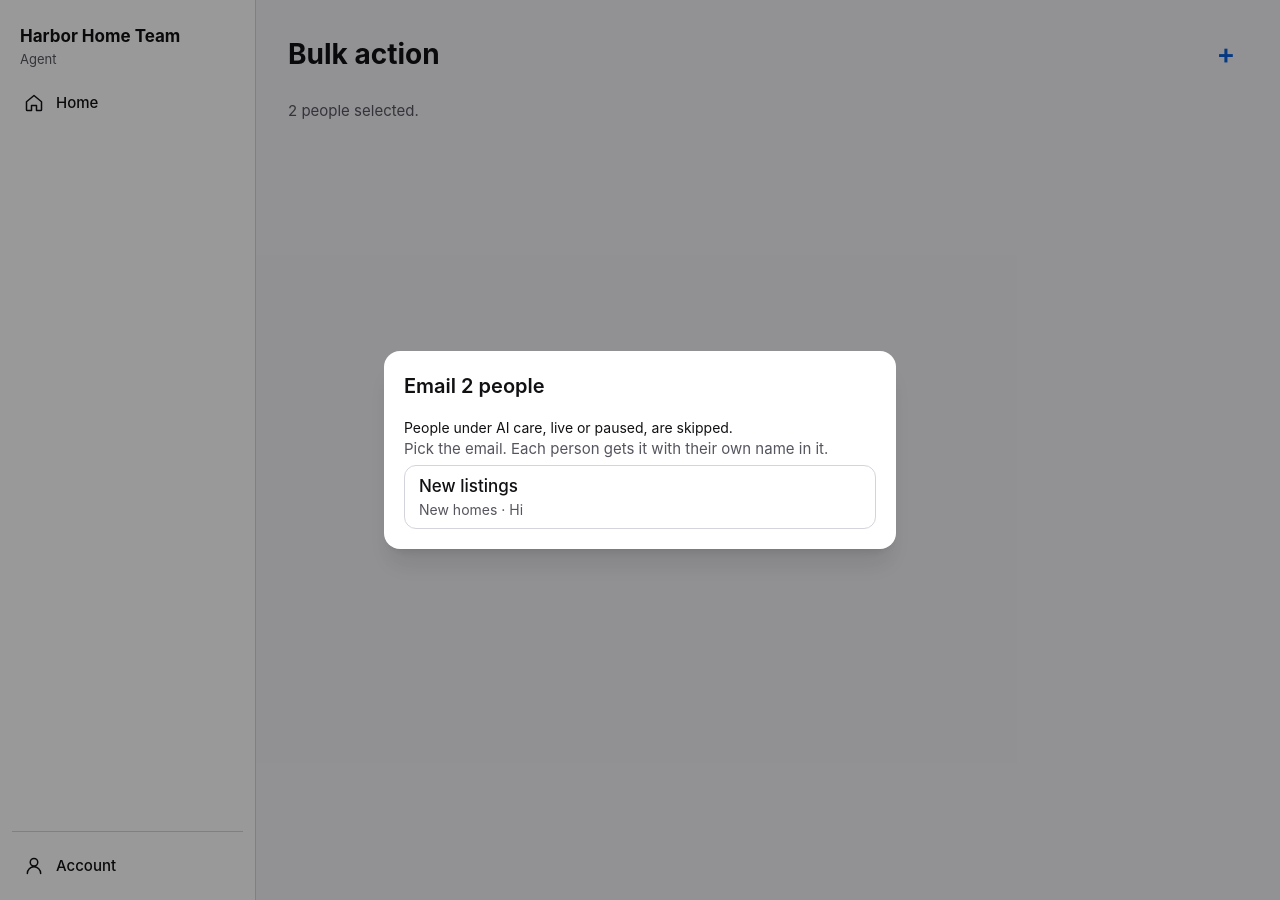
Scenario: R-PAR-33 R-PAR-38 R-PAR-41 the bulk confirm sheet › R-PAR-38 when everyone is left out there is nothing to confirm (the button is off and says why)
What coordinates should you click on to do the following:
click the button "New listings New homes · Hi"
I would click on:
 (468, 486)
Its box is [404,464,876,529].
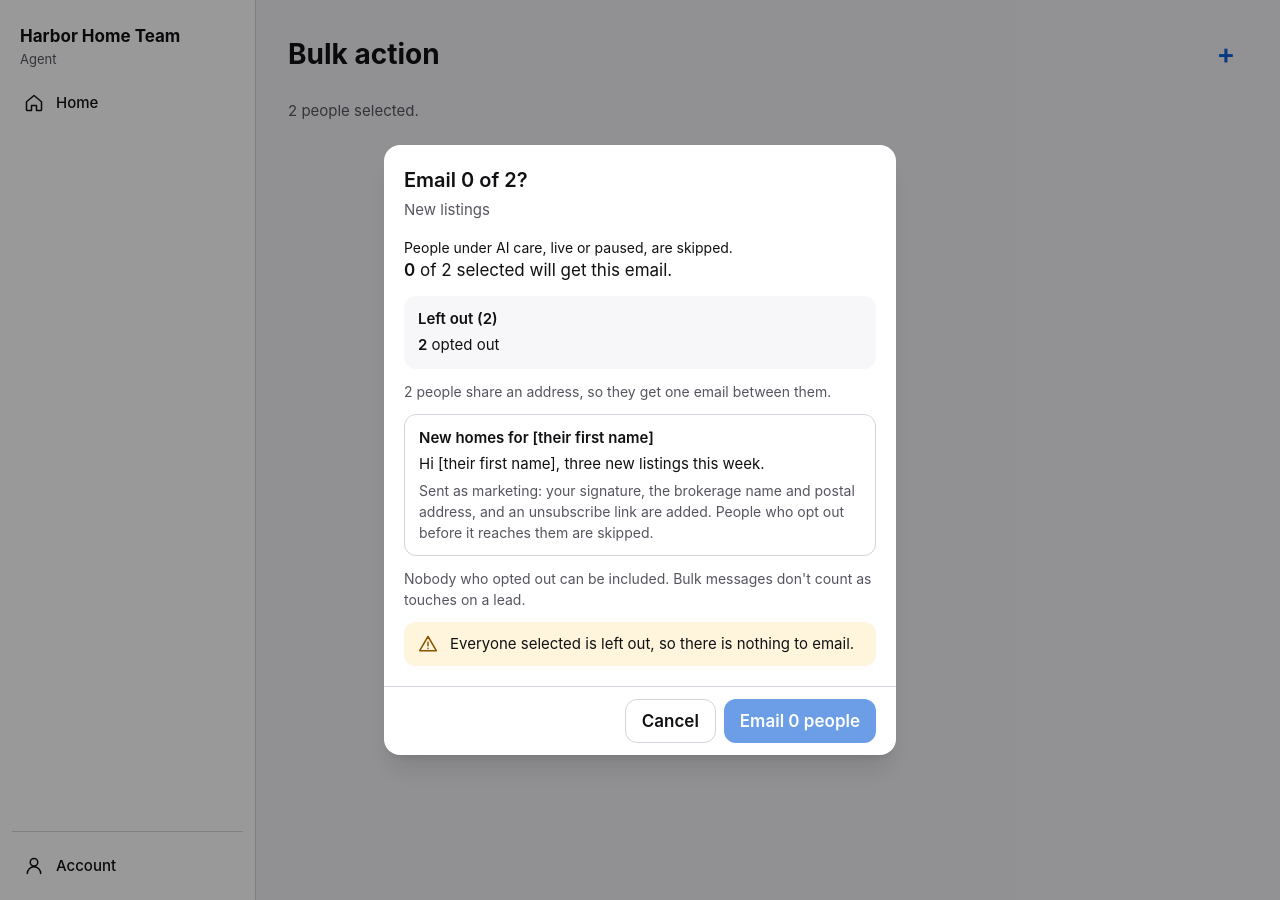
Expected: the button "Email 0 people" is disabled, [724,699,876,743]
Expected: the text "Everyone selected is left out, so there is nothing to email." is shown, [450,634,862,654]
